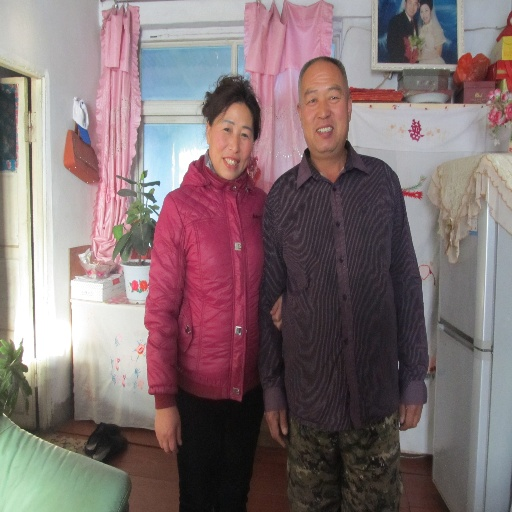hand: (153, 407, 182, 456), (262, 407, 288, 452), (398, 400, 423, 431), (269, 295, 283, 331)
